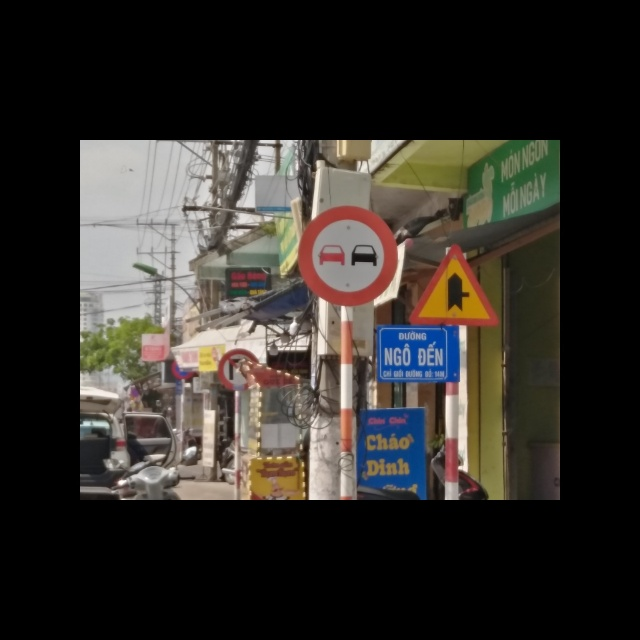Cấm vượt: (295, 204, 398, 307)
Giao nhau với đường không ưu tiên: (408, 241, 500, 327)
